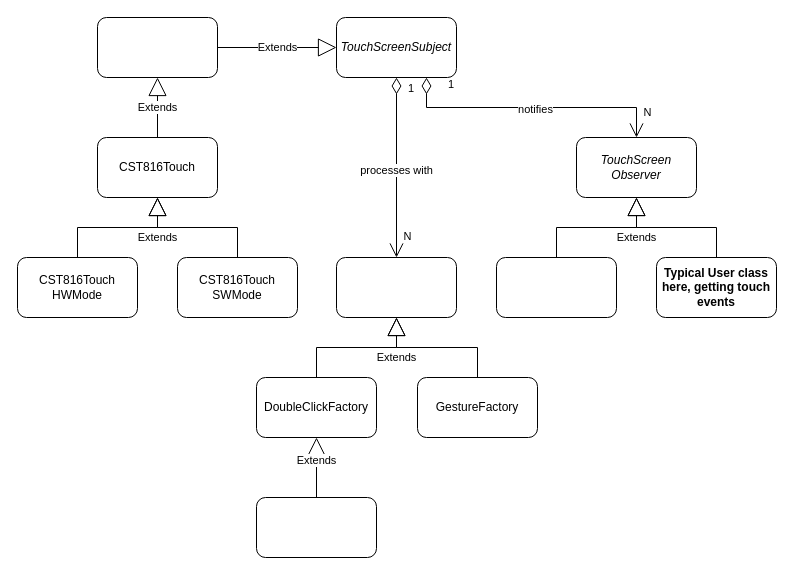
This 794x575 diagram has some shape labels left out. Each missing label, with the centre of its shape:
"Elegant DoubleClickFactory" goes at point 316,527.
"TouchScreen Controller" goes at point 157,47.
"TouchScreen EventCache" goes at point 556,287.
"TouchScreen EventProcessor" goes at point 396,287.
